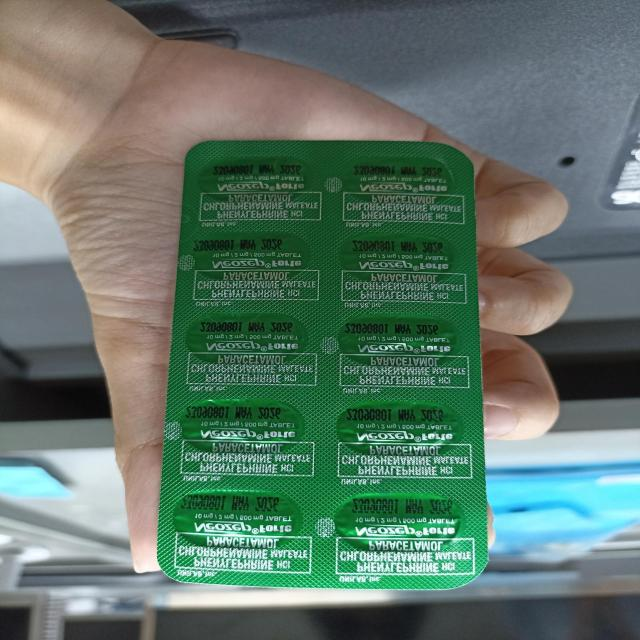Neozep_Strip: (134, 125, 502, 603)
